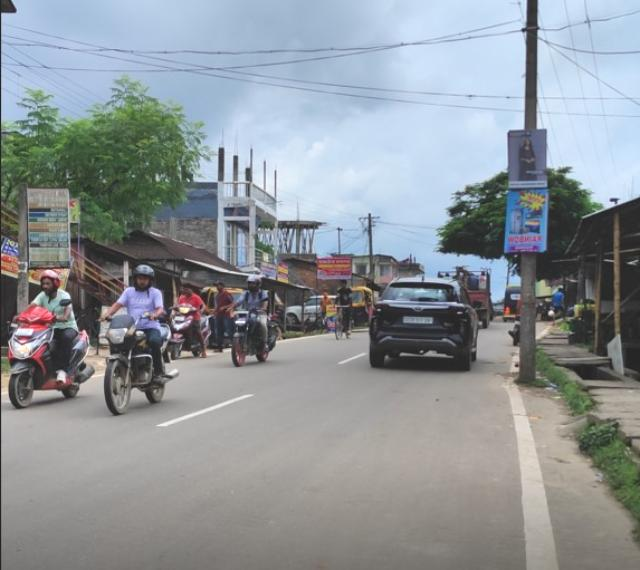licensePlate: (7, 328, 34, 337)
motorcycle: (0, 262, 87, 417), (100, 262, 173, 420), (224, 272, 280, 367)
withHelmet: (127, 266, 157, 290), (36, 268, 56, 297), (240, 276, 265, 295)
